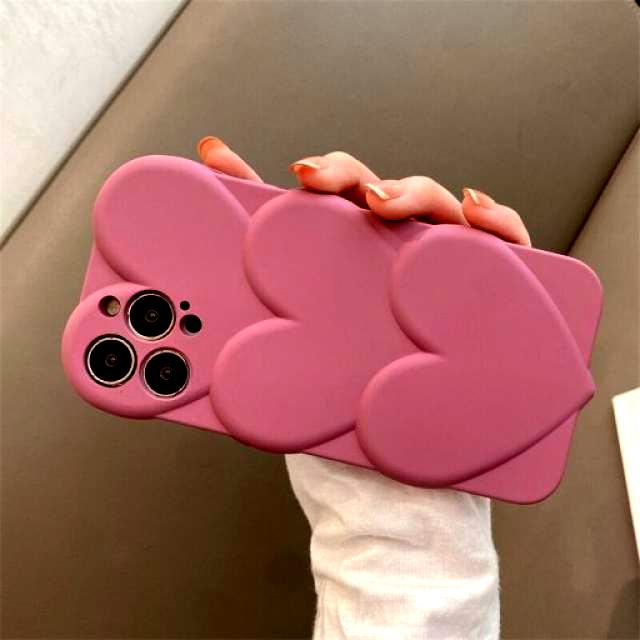lens_back: (80, 327, 140, 388), (126, 284, 178, 342), (146, 346, 194, 405)
phone: (53, 151, 613, 509)
